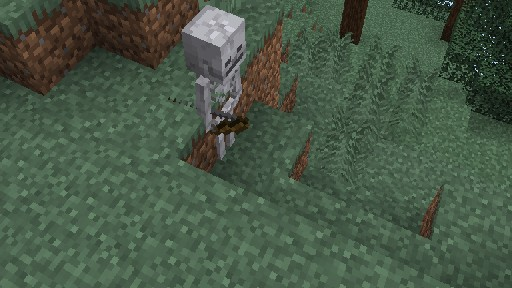skeleton: (165, 3, 249, 160)
